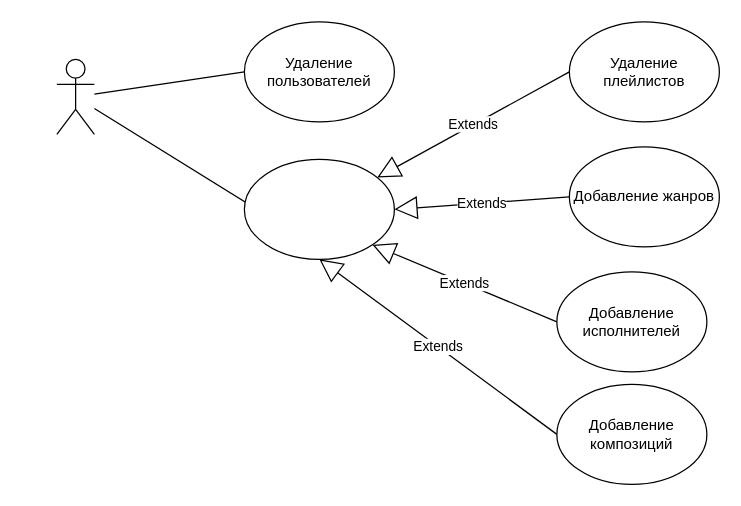
Some shapes in this 741 by 506 pixel diagram are drawn without their labels. Here are the shapes that lost their labels. From the top down, the centre of each, then its label:
At point 75,96: "Администратор".
At point 318,208: "Менеджмент контента".
